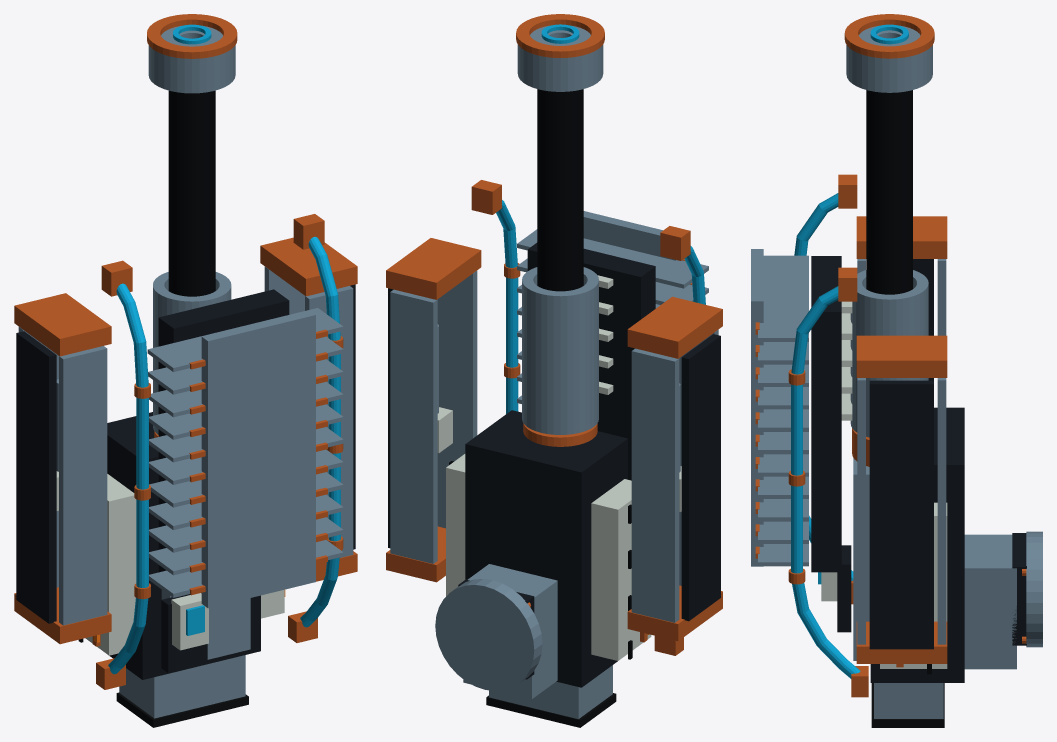
File: M01-008_liquid_cooled_rifle.obj
The picture shows the model from 3 angles, left to right: view 1: azimuth 30°, elevation 25°; view 2: azimuth 150°, elevation 25°; view 3: azimuth 270°, elevation 25°; orthographic projection.
Parts seen in each view (by area): view 1: Radiator_Upper_Rail, Pump_Guide_Upper_L, Pump_Guide_Outer_L, Hollow_Rifle_Barrel, Receiver, Rear_Breech, Ceramic_Cheek_L, Coolant_Tube_L, Radiator_Lower_Manifold, Pump_Front_Anchor_L, Pump_Guide_Upper_R, Muzzle_Brake (+27 smaller); view 2: Receiver, Pump_Guide_Lower_L, Pump_Guide_Lower_R, Barrel_Heat_Shroud, Pump_Guide_Outer_L, Hollow_Rifle_Barrel, Top_Mount, Radiator_Lower_Manifold, Ceramic_Cheek_L, Pump_Guide_Upper_R, Pump_Front_Anchor_L, Pump_Front_Anchor_R (+18 smaller); view 3: Pump_Guide_Outer_R, Hollow_Rifle_Barrel, Radiator_Lower_Manifold, Lower_Pedestal, Receiver, Barrel_Heat_Shroud, Coolant_Tube_R, Pump_Front_Anchor_R, Radiator_Fin_10, Muzzle_Brake, Pump_Guide_Lower_R, Radiator_Upper_Rail (+29 smaller).
Boxes of the visible parts, x1=… form: Radiator_Upper_Rail: x1=201, y1=310, x2=315, y2=608; Pump_Guide_Upper_L: x1=59, y1=346, x2=107, y2=625; Pump_Guide_Outer_L: x1=16, y1=331, x2=56, y2=623; Hollow_Rifle_Barrel: x1=168, y1=90, x2=215, y2=296; Receiver: x1=107, y1=412, x2=260, y2=679; Rear_Breech: x1=119, y1=655, x2=245, y2=718; Ceramic_Cheek_L: x1=85, y1=474, x2=136, y2=655; Coolant_Tube_L: x1=108, y1=283, x2=148, y2=674; Radiator_Lower_Manifold: x1=158, y1=289, x2=289, y2=572; Pump_Front_Anchor_L: x1=14, y1=293, x2=111, y2=356; Pump_Guide_Upper_R: x1=305, y1=286, x2=353, y2=557; Muzzle_Brake: x1=148, y1=25, x2=235, y2=93; Receiver: x1=465, y1=410, x2=627, y2=687; Pump_Guide_Lower_L: x1=631, y1=348, x2=679, y2=622; Pump_Guide_Lower_R: x1=390, y1=289, x2=437, y2=563; Barrel_Heat_Shroud: x1=522, y1=267, x2=598, y2=434; Pump_Guide_Outer_L: x1=681, y1=334, x2=720, y2=621; Hollow_Rifle_Barrel: x1=537, y1=89, x2=583, y2=291; Top_Mount: x1=435, y1=579, x2=542, y2=690; Radiator_Lower_Manifold: x1=527, y1=242, x2=655, y2=480; Ceramic_Cheek_L: x1=591, y1=479, x2=651, y2=660; Pump_Guide_Upper_R: x1=437, y1=271, x2=477, y2=528; Pump_Front_Anchor_L: x1=627, y1=296, x2=722, y2=358; Pump_Front_Anchor_R: x1=386, y1=238, x2=481, y2=299; Pump_Guide_Outer_R: x1=869, y1=380, x2=933, y2=649; Hollow_Rifle_Barrel: x1=866, y1=90, x2=912, y2=294; Radiator_Lower_Manifold: x1=811, y1=256, x2=841, y2=572; Lower_Pedestal: x1=964, y1=534, x2=1016, y2=669; Receiver: x1=870, y1=407, x2=964, y2=682; Barrel_Heat_Shroud: x1=850, y1=270, x2=928, y2=437; Coolant_Tube_R: x1=791, y1=286, x2=860, y2=678; Pump_Front_Anchor_R: x1=856, y1=335, x2=947, y2=377; Radiator_Fin_10: x1=758, y1=255, x2=808, y2=341; Muzzle_Brake: x1=846, y1=25, x2=932, y2=92; Pump_Guide_Lower_R: x1=937, y1=378, x2=946, y2=644; Radiator_Upper_Rail: x1=751, y1=249, x2=763, y2=566.
Bounding box in the file's own units: 1.01 × 2.13 × 0.838.
